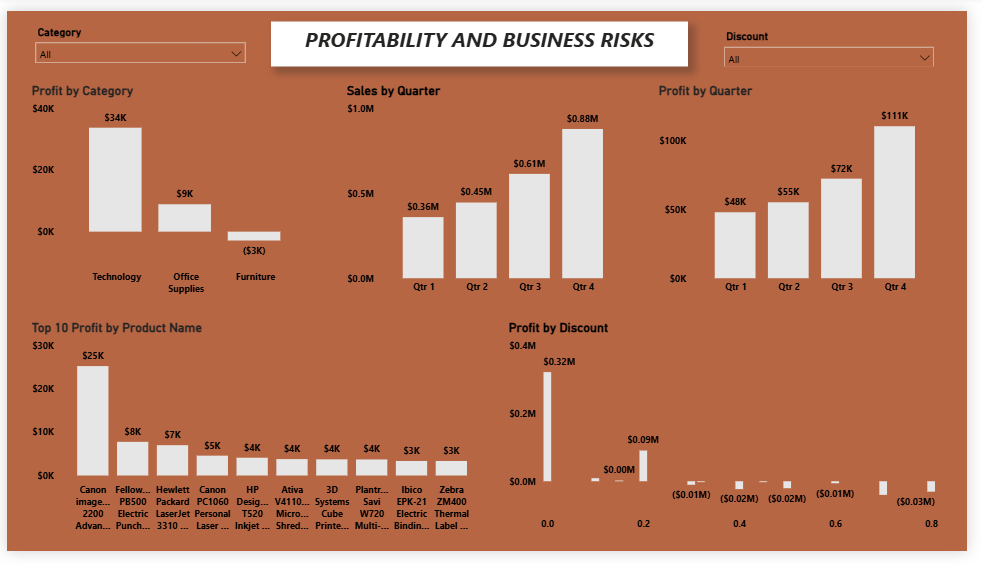

This screenshot's page, from the dashboard's own definition file:
{"tool":"powerbi","page":{"name":"PROFITABILITY & BUSINESS RISKS","canvas":[1280,720],"ordinal":3},"visuals":[{"type":"clusteredColumnChart","title":"Profit by Discount","fields":{"Y":["Sample_-_Superstore[1].Total Profit"],"Category":["Sample_-_Superstore[1].Discount"]},"box":[664,412,582,290],"z":1000},{"type":"clusteredColumnChart","title":"Profit by Quarter","fields":{"Category":["Sample_-_Superstore[1].Order Date.Variation.Date Hierarchy.Quarter"],"Y":["Sample_-_Superstore[1].Total Profit"]},"box":[864,96,382,290],"z":2000},{"type":"clusteredColumnChart","title":"Sales by Quarter","fields":{"Category":["Sample_-_Superstore[1].Order Date.Variation.Date Hierarchy.Quarter"],"Y":["Sample_-_Superstore[1].Total Sales"]},"box":[448,96,382,290],"z":3000},{"type":"clusteredColumnChart","title":"Profit by Category","fields":{"Category":["Sample_-_Superstore[1].Category"],"Y":["Sample_-_Superstore[1].Total Profit"]},"box":[28,96,382,290],"z":4000},{"type":"clusteredColumnChart","title":"Top 10 Profit by Product Name","fields":{"Y":["Sample_-_Superstore[1].Total Profit"],"Category":["Sample_-_Superstore[1].Product Name"]},"box":[28,412,612,290],"z":5000},{"type":"textbox","box":[352,14,556,60],"z":6000},{"type":"slicer","fields":{"Values":["Sample_-_Superstore[1].Discount"]},"box":[946,20,300,54],"z":8000},{"type":"slicer","fields":{"Values":["Sample_-_Superstore[1].Category"]},"box":[28,14,300,60],"z":12000}]}

Visuals, with their boxes in screenshot pixels (x1, y1, x2, y2), scaled from the page's 1280x720 canvas onto the 982x565 screenshot:
"Profit by Discount" clusteredColumnChart: (left=509, top=323, right=956, bottom=551)
"Profit by Quarter" clusteredColumnChart: (left=663, top=75, right=956, bottom=303)
"Sales by Quarter" clusteredColumnChart: (left=344, top=75, right=637, bottom=303)
"Profit by Category" clusteredColumnChart: (left=21, top=75, right=315, bottom=303)
"Top 10 Profit by Product Name" clusteredColumnChart: (left=21, top=323, right=491, bottom=551)
textbox: (left=270, top=11, right=697, bottom=58)
slicer - Sample_-_Superstore[1].Discount: (left=726, top=16, right=956, bottom=58)
slicer - Sample_-_Superstore[1].Category: (left=21, top=11, right=252, bottom=58)
